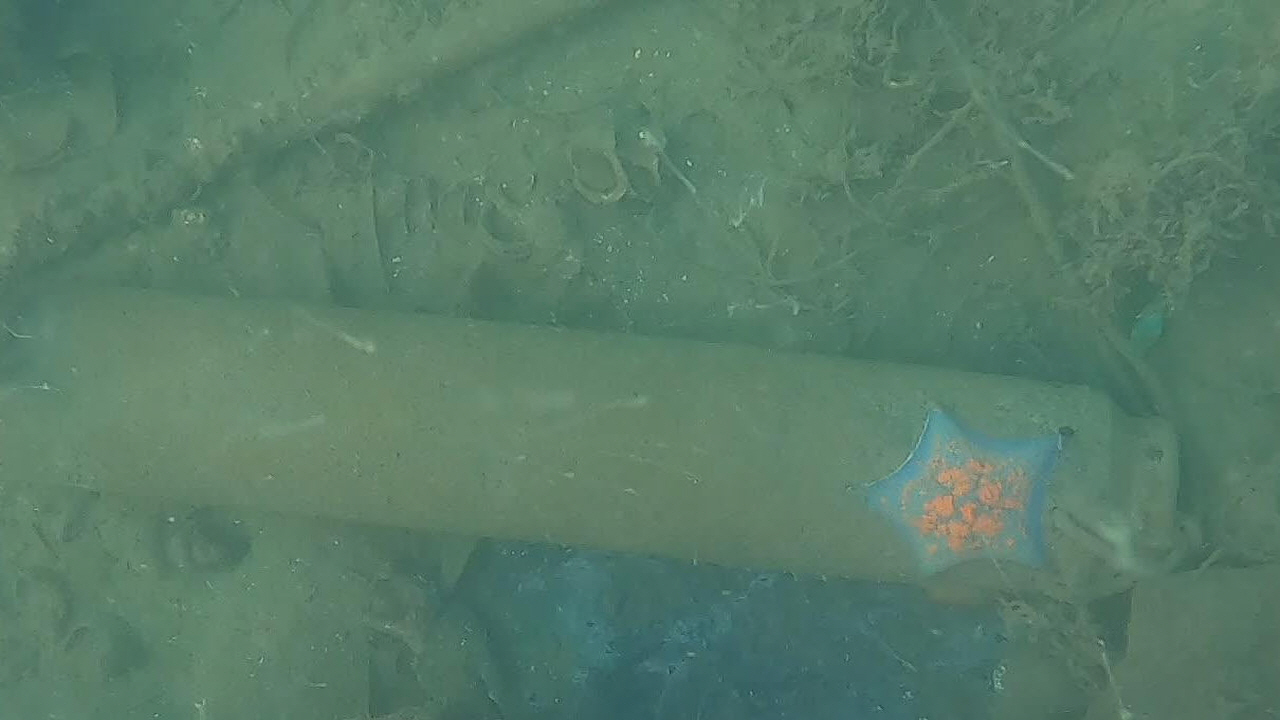eel fish trap: (15, 271, 1181, 594)
